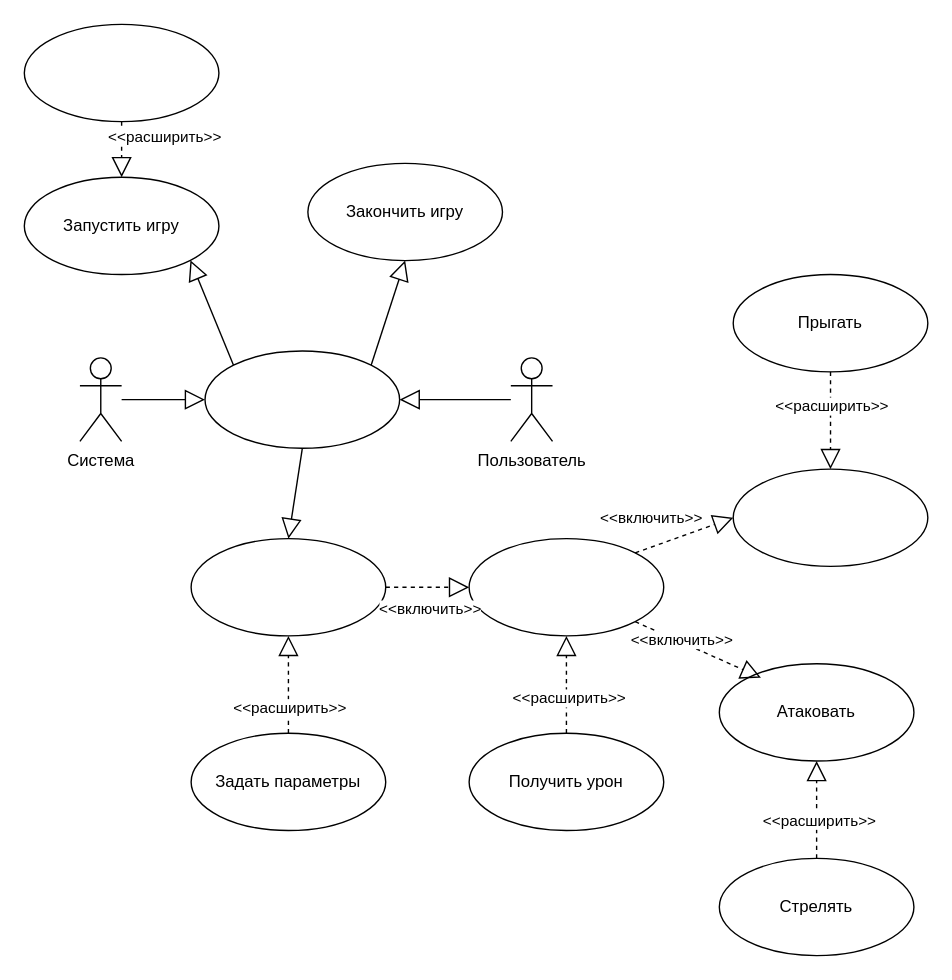
The diagram is 952 pixels wide and 980 high, and some of its shapes have lost their labels. Each missing label, with the box of its shape:
Взаимодействовать: (468, 537, 664, 636)
Играть: (190, 537, 386, 636)
Контроль игры: (204, 350, 400, 448)
Передвигаться: (732, 468, 928, 566)
Подключиться к игре: (23, 23, 219, 122)
